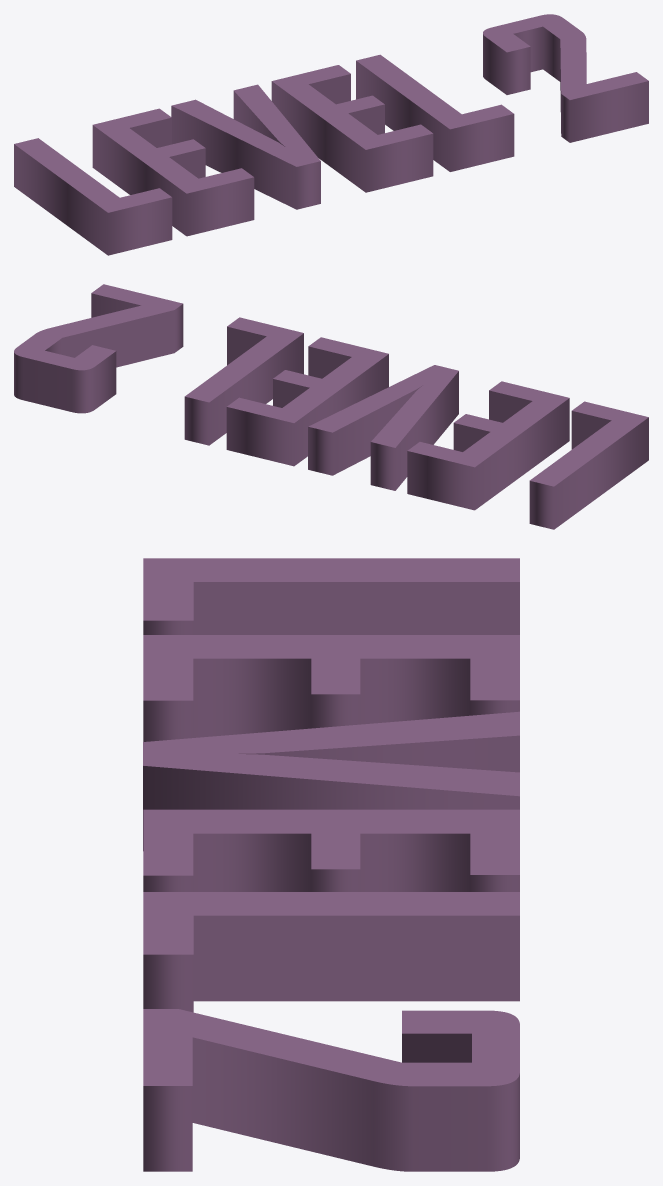
The model's file is Level_2.fbx.
3 views of the same model, one above another, from view 1: azimuth 30°, elevation 25°; view 2: azimuth 150°, elevation 25°; view 3: azimuth 270°, elevation 25° (orthographic). The views are drawn at different scales.
Visible parts, largest first — view 1: Text; view 2: Text; view 3: Text.
Part boxes in pixels (<box>): Text: <box>14,14,648,255</box>; Text: <box>14,284,648,529</box>; Text: <box>143,558,519,1171</box>.
Bounding box in the file's own units: 212 × 16 × 63.91.
